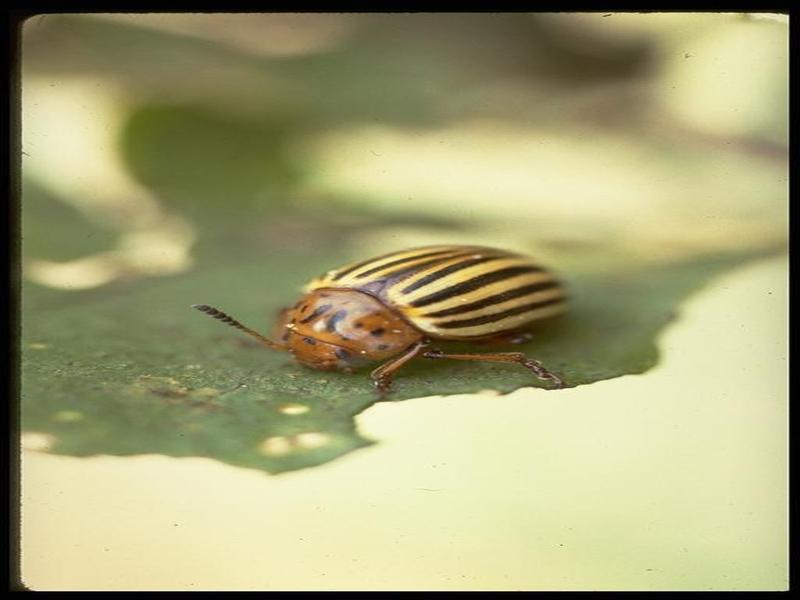hrosc: (277, 240, 575, 389)
